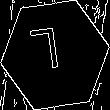L_S: (37, 28, 73, 82)
